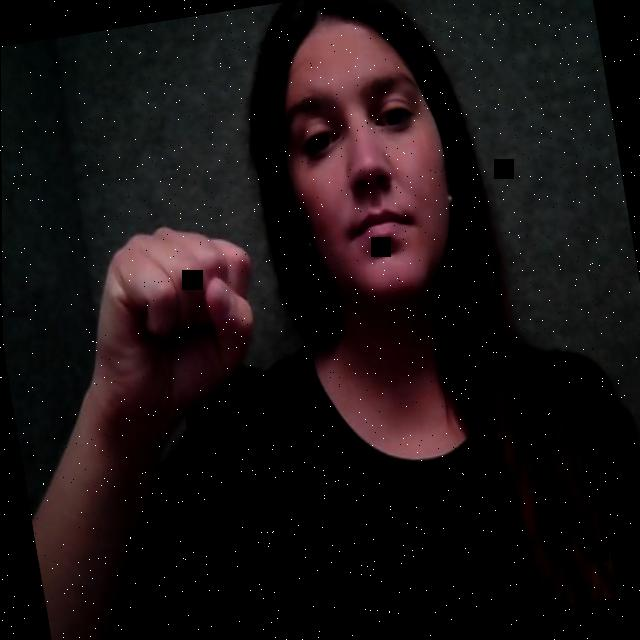Rock: (71, 205, 288, 436)
